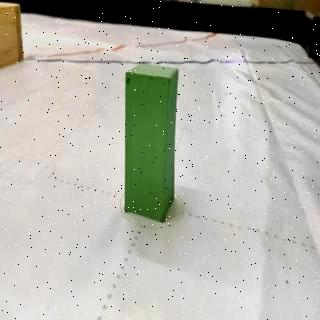greenbox: (124, 60, 182, 224)
